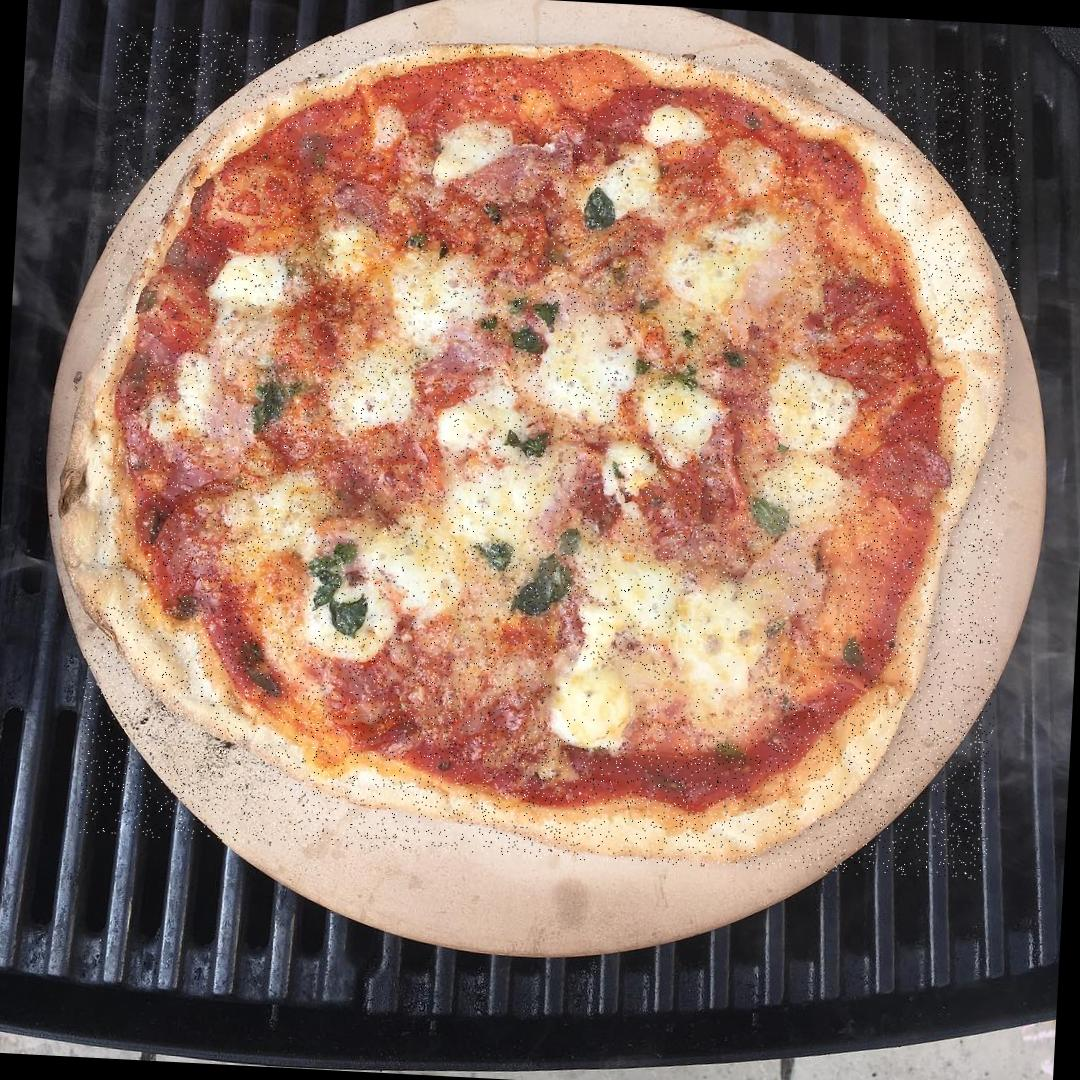Cheese: (749, 346, 873, 534), (267, 507, 436, 642), (428, 395, 572, 542), (646, 197, 785, 326), (601, 373, 730, 490), (580, 116, 685, 241), (384, 243, 492, 362), (540, 318, 648, 432), (670, 596, 765, 717), (307, 342, 431, 432), (578, 560, 684, 664), (393, 100, 521, 183), (196, 236, 294, 323), (544, 666, 645, 744)
Pizza: (76, 25, 1028, 882)
